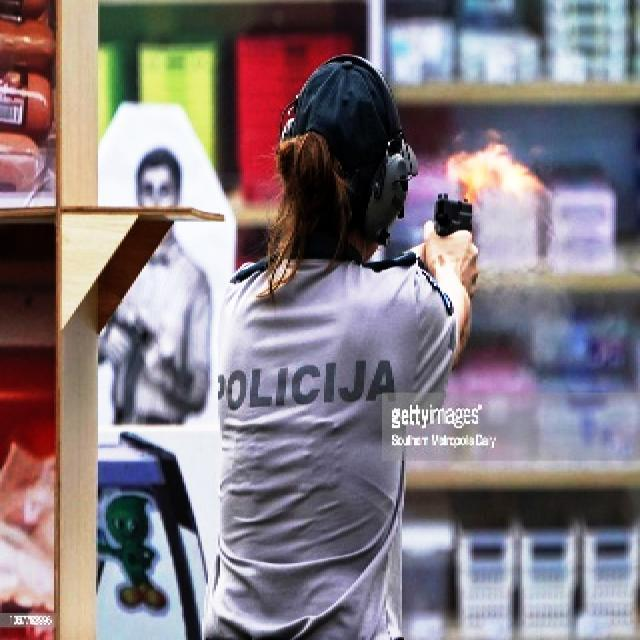Gun: (426, 192, 482, 238)
